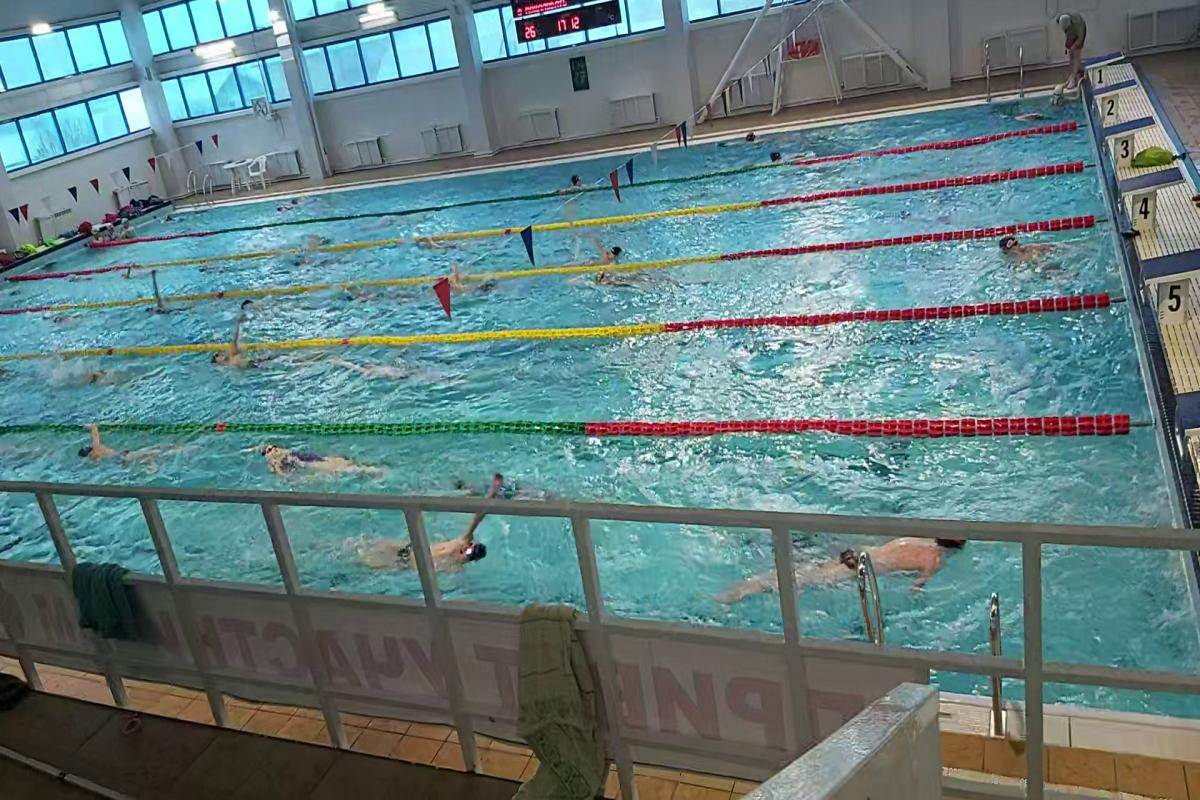swimmer: (797, 538, 964, 621), (248, 438, 395, 488), (982, 228, 1090, 289), (66, 433, 192, 477), (442, 521, 496, 581), (568, 269, 680, 291), (441, 260, 500, 299), (201, 350, 286, 377), (143, 274, 194, 314), (338, 286, 411, 310), (572, 231, 632, 260), (414, 235, 464, 253), (239, 295, 282, 315)
